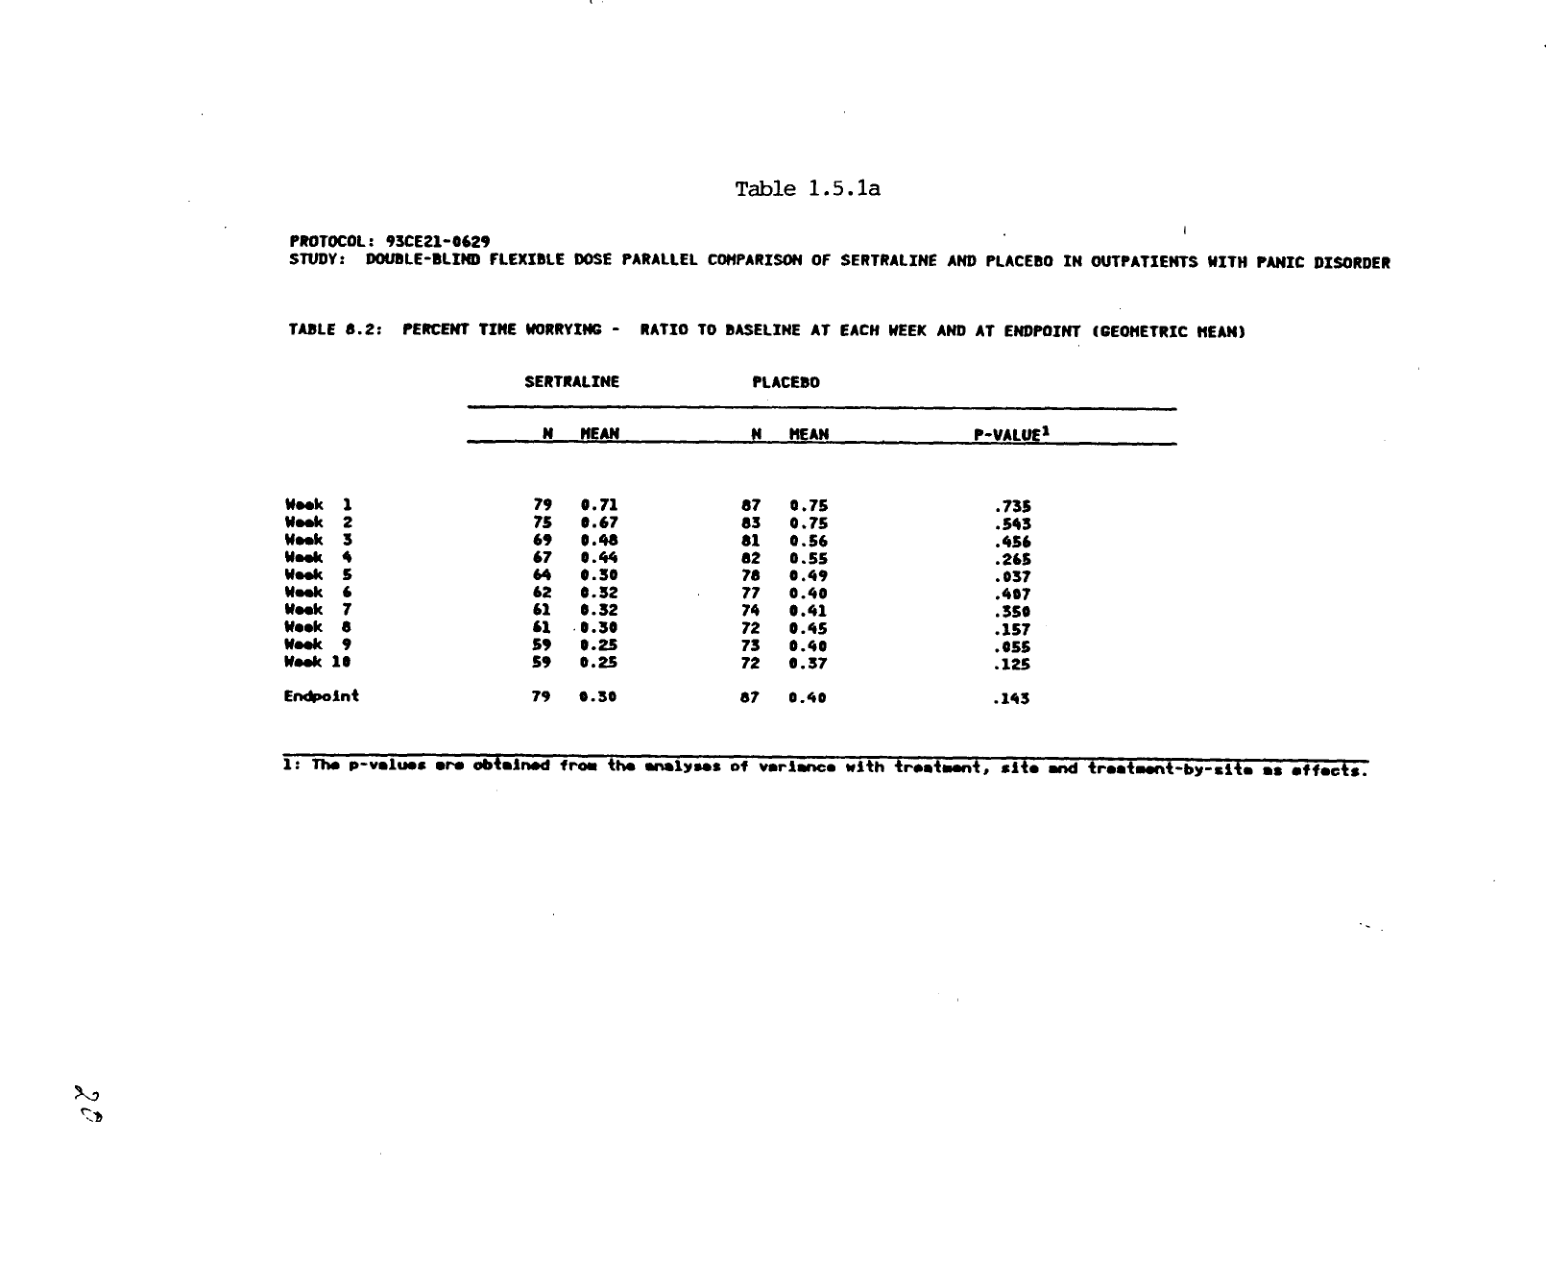partial_lined_merged_cells: (280, 371, 1177, 709)
